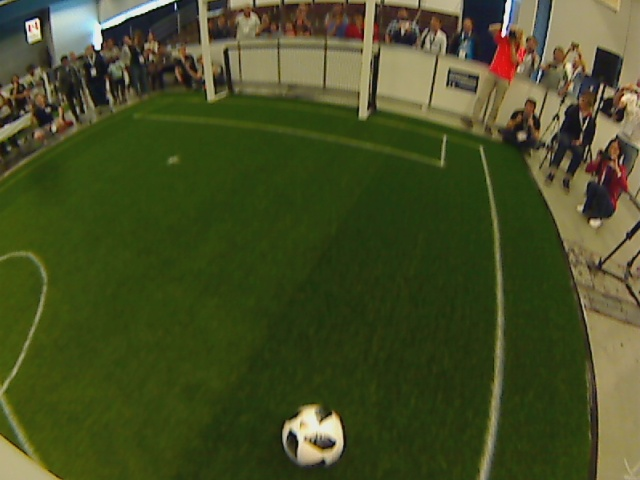ball: (166, 155, 179, 165)
